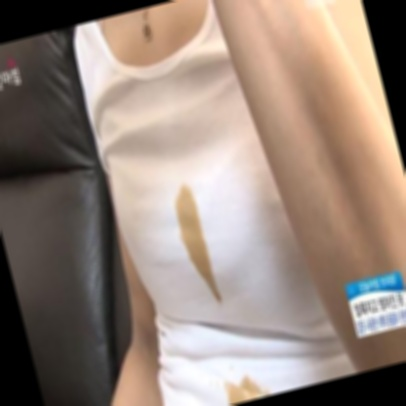coffee: (176, 186, 211, 276)
